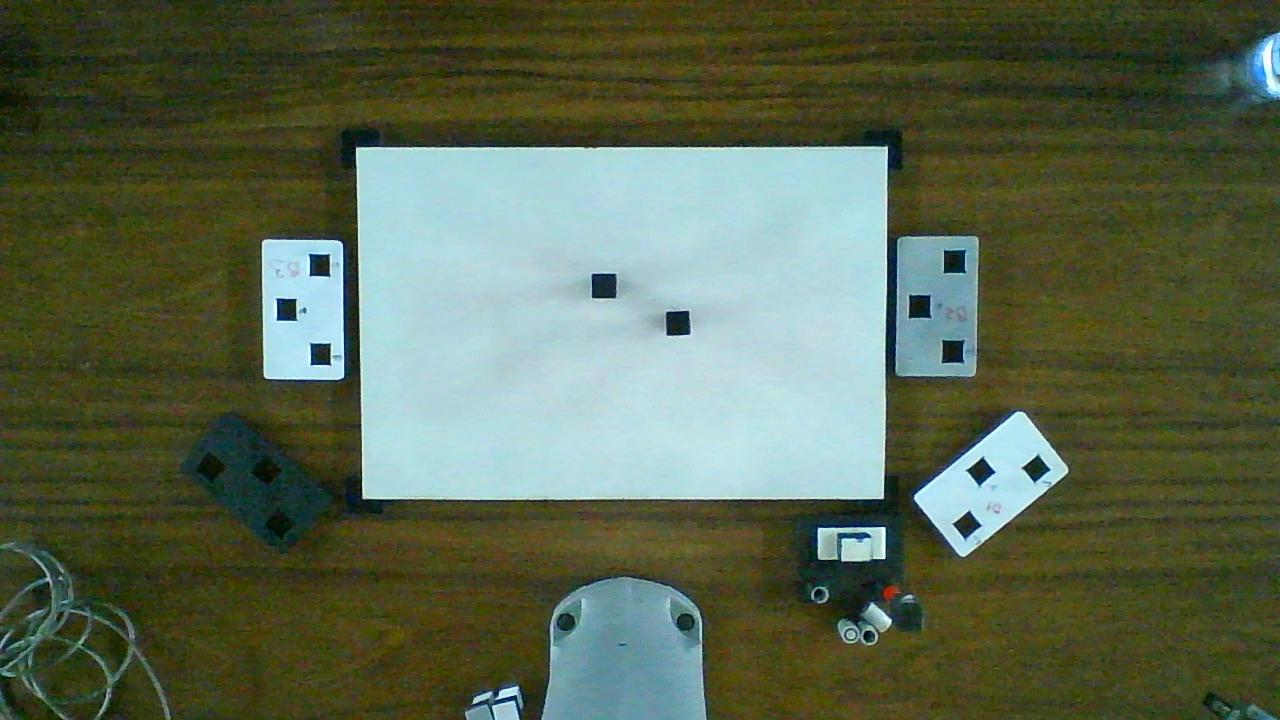peca_preta: (592, 274, 615, 297), (668, 312, 689, 335)
